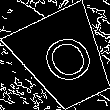O_SE: (30, 27, 98, 92)
